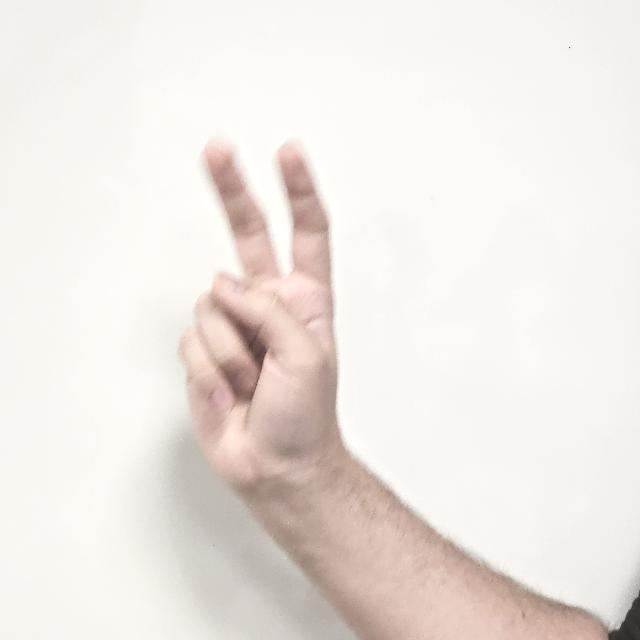Triangulo: (160, 138, 352, 496)
